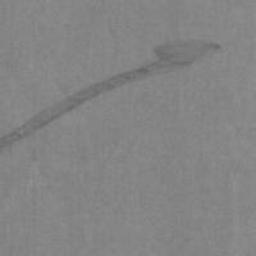Water spot: (0, 37, 225, 157)
